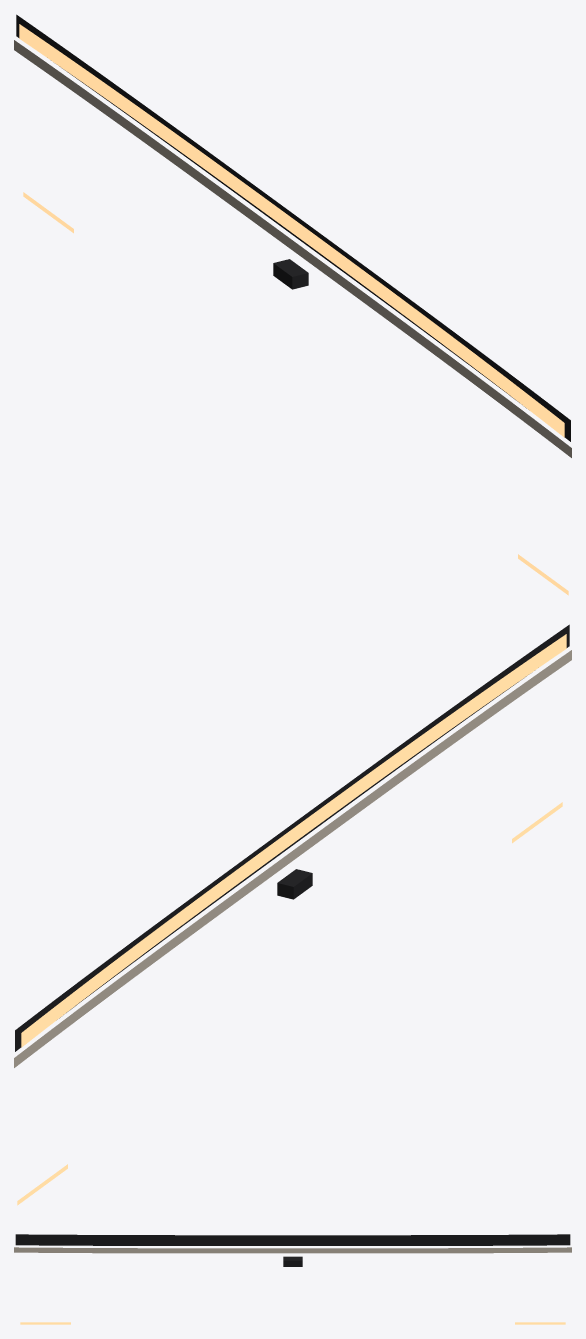
File: SM_Tail_Lights.fbx
3 views of the same model, one above another, from view 1: azimuth 30°, elevation 25°; view 2: azimuth 150°, elevation 25°; view 3: azimuth 270°, elevation 25° (orthographic). The views are drawn at different scales.
Visible parts, largest first — view 1: Export_Tail_Lights; view 2: Export_Tail_Lights; view 3: Export_Tail_Lights.
Part boxes in pixels (bbox=[...]): Export_Tail_Lights: bbox=[14, 14, 571, 595]; Export_Tail_Lights: bbox=[14, 624, 571, 1205]; Export_Tail_Lights: bbox=[14, 1234, 571, 1324].
Bounding box in the file's own units: 1.76 × 0.03 × 0.312.
